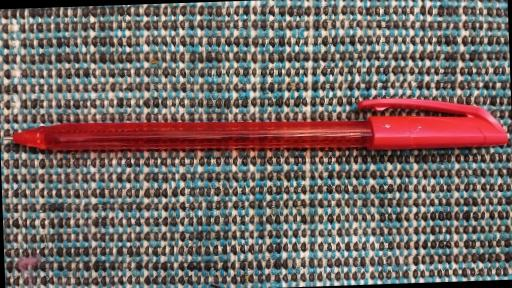pen: (1, 95, 512, 164)
